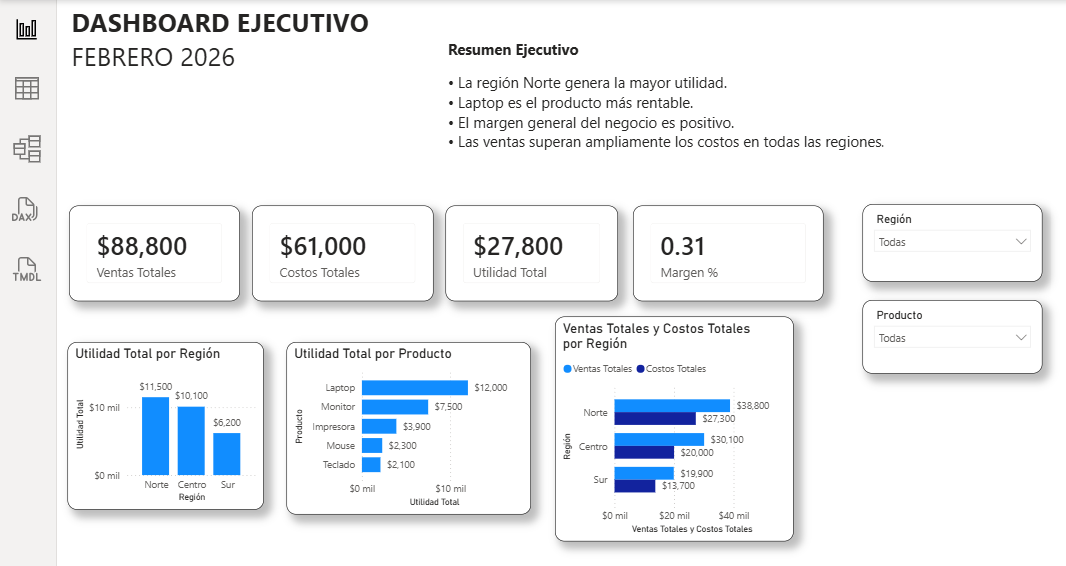

Layout of this report page (visuals, bound fields, positions):
{"tool":"powerbi","page":{"name":"Página 1","canvas":[1280,720],"ordinal":0},"visuals":[{"type":"cardVisual","fields":{"Data":["ejecutivo1.Ventas Totales"]},"box":[14.5,259.5,215.4,120.9],"z":0},{"type":"cardVisual","fields":{"Data":["ejecutivo1.Costos Totales"]},"box":[245,259.5,228.7,120.9],"z":1000},{"type":"cardVisual","fields":{"Data":["ejecutivo1.Utilidad Total"]},"box":[488.8,259.5,217.3,120.9],"z":2000},{"type":"cardVisual","fields":{"Data":["ejecutivo1.Margen %"]},"box":[725,259.5,240,120.9],"z":3000},{"type":"clusteredColumnChart","fields":{"Category":["ejecutivo1.Región"],"Y":["ejecutivo1.Utilidad Total"]},"box":[13.2,430.9,247.6,211.7],"z":4000},{"type":"clusteredBarChart","fields":{"Category":["ejecutivo1.Producto"],"Y":["ejecutivo1.Utilidad Total"]},"box":[289.1,430.9,308,217.3],"z":5000},{"type":"clusteredBarChart","fields":{"Category":["ejecutivo1.Región"],"Y":["ejecutivo1.Ventas Totales","ejecutivo1.Costos Totales"]},"box":[627.4,398.7,300.5,283.5],"z":6000},{"type":"slicer","fields":{"Values":["ejecutivo1.Región"]},"box":[1014.8,257,226.8,98.3],"z":6001},{"type":"slicer","fields":{"Values":["ejecutivo1.Producto"]},"box":[1014.8,378,226.8,92.6],"z":6002},{"type":"textbox","box":[13.2,0,459.2,149.3],"z":6003},{"type":"textbox","box":[487.6,43.5,623.6,175.7],"z":6004}]}

Visuals, with their boxes on the page's 1280x720 design canvas (x1, y1, x2, y2). These are canvas units, not pixel positions in the 1066x566 screenshot, which may show the page scaled, cropped or inside an application window:
cardVisual - ejecutivo1.Ventas Totales: 14 260 230 380
cardVisual - ejecutivo1.Costos Totales: 245 260 474 380
cardVisual - ejecutivo1.Utilidad Total: 489 260 706 380
cardVisual - ejecutivo1.Margen %: 725 260 965 380
clusteredColumnChart - ejecutivo1.Región x ejecutivo1.Utilidad Total: 13 431 261 643
clusteredBarChart - ejecutivo1.Producto x ejecutivo1.Utilidad Total: 289 431 597 648
clusteredBarChart - ejecutivo1.Región x ejecutivo1.Ventas Totales: 627 399 928 682
slicer - ejecutivo1.Región: 1015 257 1242 355
slicer - ejecutivo1.Producto: 1015 378 1242 471
textbox: 13 0 472 149
textbox: 488 44 1111 219
